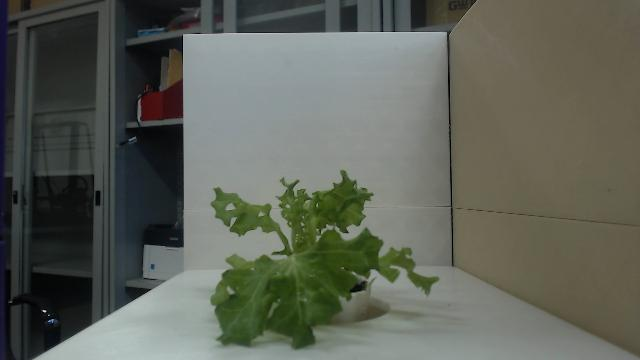Vegetative Stage: (210, 168, 440, 350)
